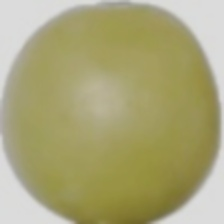grapes: (9, 40, 191, 211)
